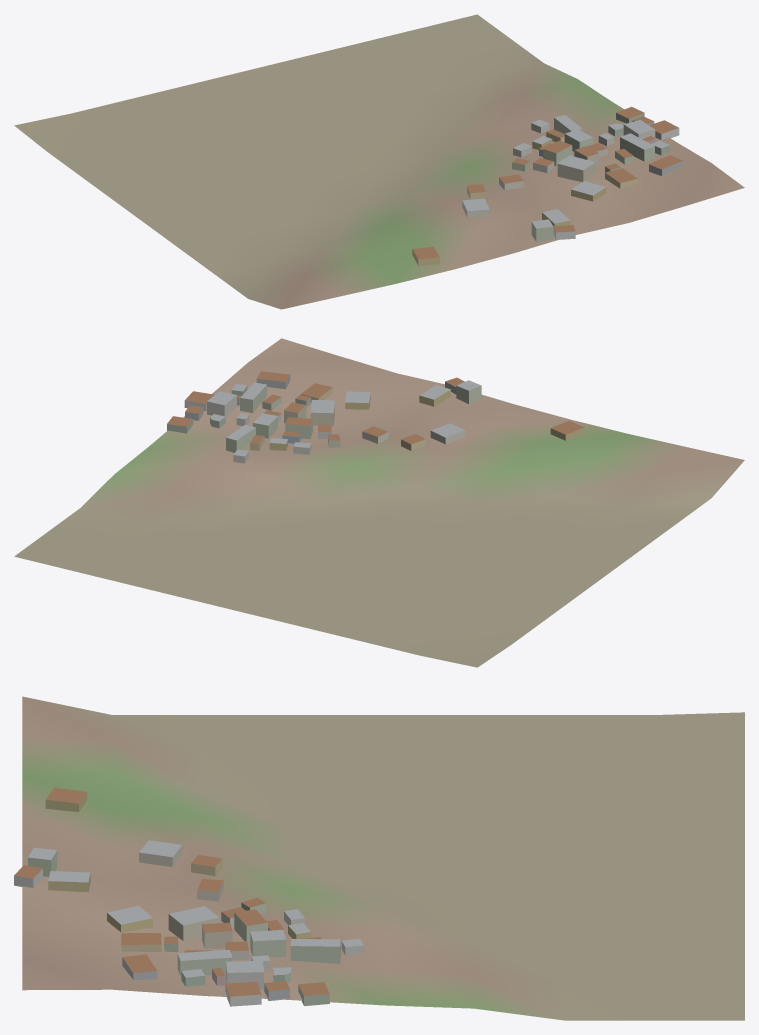
3 renders of one model, top to bottom at view 1: azimuth 30°, elevation 25°; view 2: azimuth 150°, elevation 25°; view 3: azimuth 270°, elevation 25°, orthographic. The views are drawn at different scales.
Visible parts, largest first — view 1: Lo; view 2: Lo; view 3: Lo.
Part boxes in pixels (<box>): Lo: <box>14,14,744,309</box>; Lo: <box>14,338,744,667</box>; Lo: <box>14,696,744,1020</box>.
Bounding box in the file's own units: 262 × 15.23 × 259.
